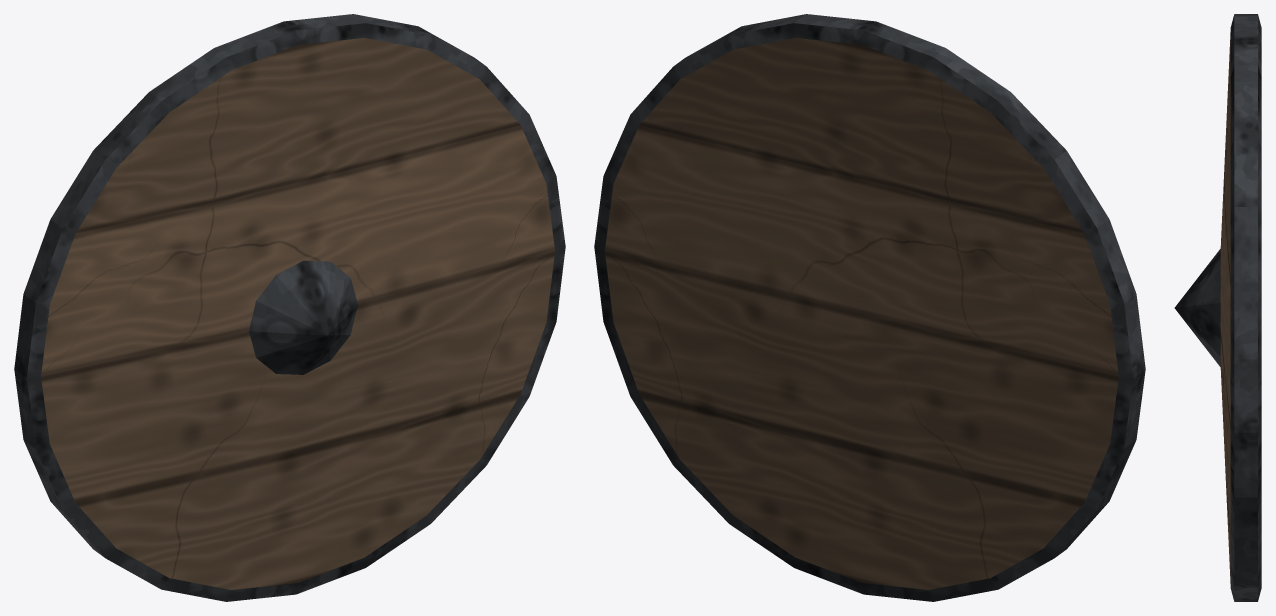
File: shield.glb
3 renders of one model, left to right at view 1: azimuth 30°, elevation 25°; view 2: azimuth 150°, elevation 25°; view 3: azimuth 270°, elevation 25°, orthographic. The views are drawn at different scales.
Visible parts, largest first — view 1: shield; view 2: shield; view 3: shield.
Part boxes in pixels (bbox=[...]): shield: bbox=[14, 14, 565, 601]; shield: bbox=[594, 14, 1145, 601]; shield: bbox=[1174, 14, 1261, 601].
Bounding box in the file's own units: 0.65 × 0.65 × 0.096.
Materials: 2 (2 with a texture image).
